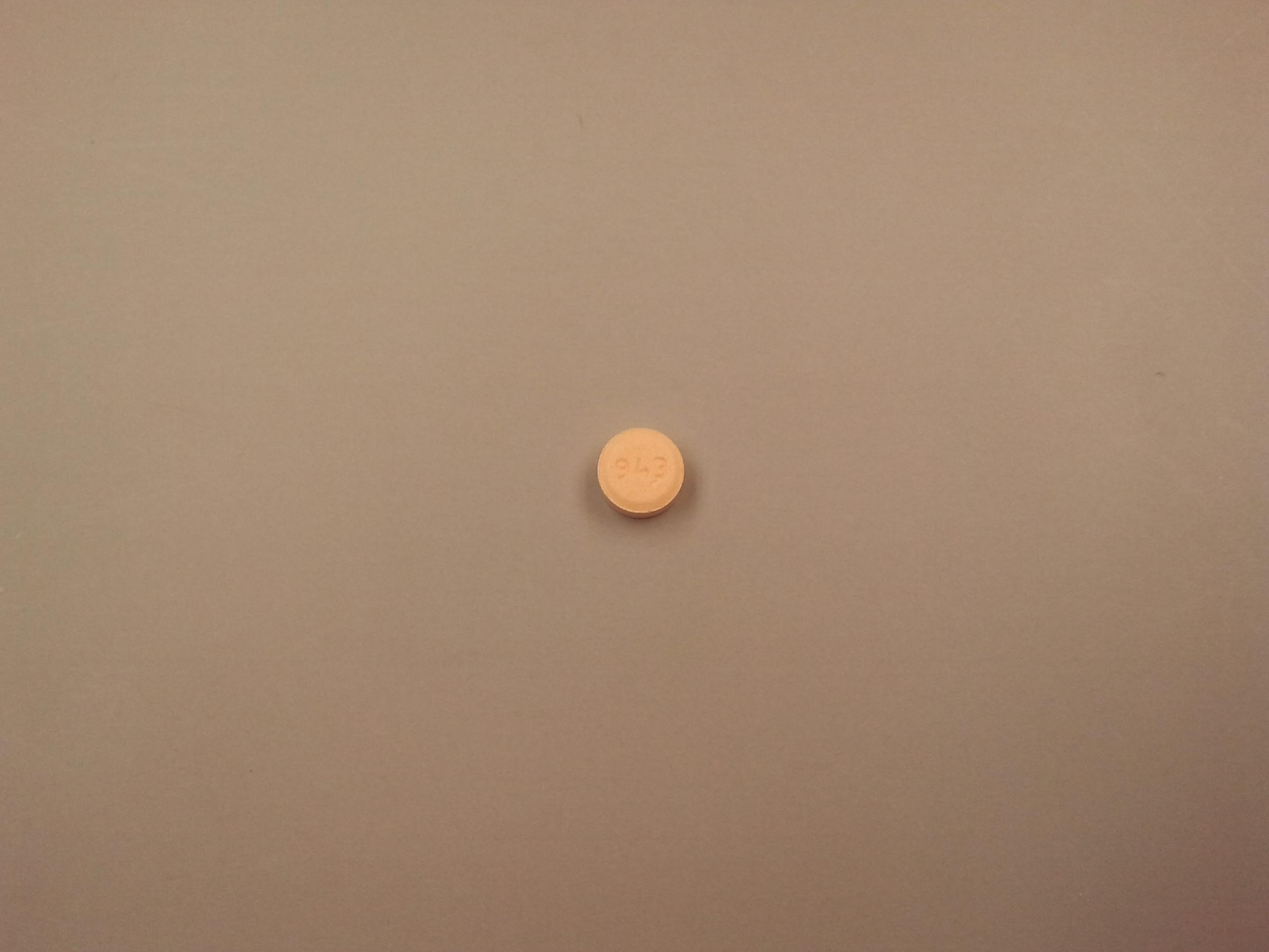Pill: (562, 428, 699, 515)
